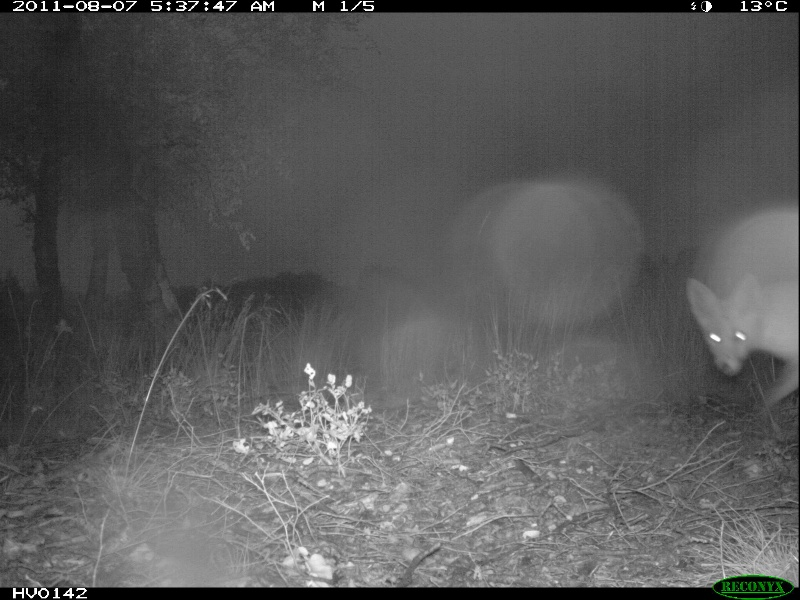fox: (676, 261, 800, 442)
